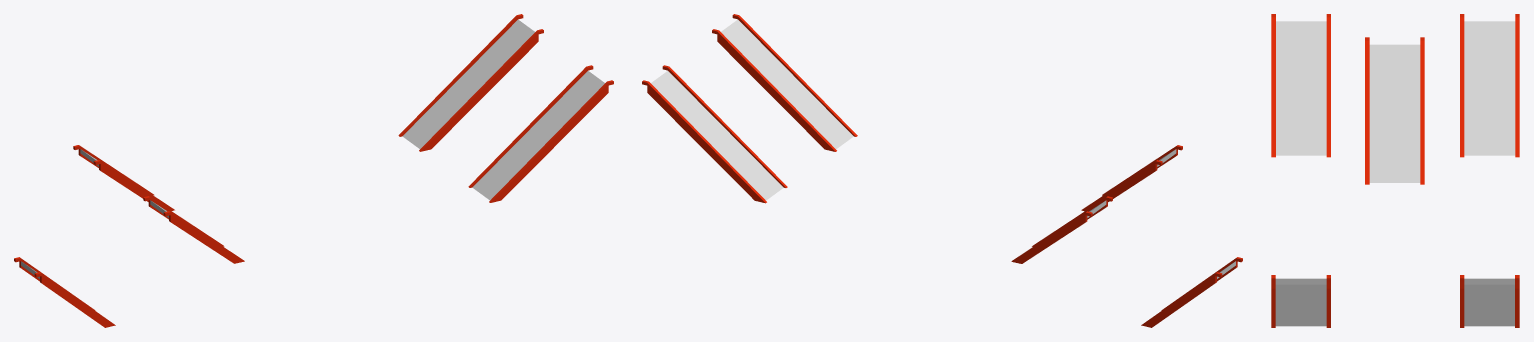
Rendered from Ramps.fbx.
3 views of the same model, side by side, from view 1: azimuth 30°, elevation 25°; view 2: azimuth 150°, elevation 25°; view 3: azimuth 270°, elevation 25° (orthographic). The views are drawn at different scales.
Visible parts, largest first — view 1: Ramps; view 2: Ramps; view 3: Ramps.
Boxes of the visible parts, x1,y1,x2,y2 form: Ramps: (14, 14, 613, 327); Ramps: (642, 14, 1242, 327); Ramps: (1271, 14, 1519, 327).
Bounding box in the file's own units: 2831 × 780 × 832.
